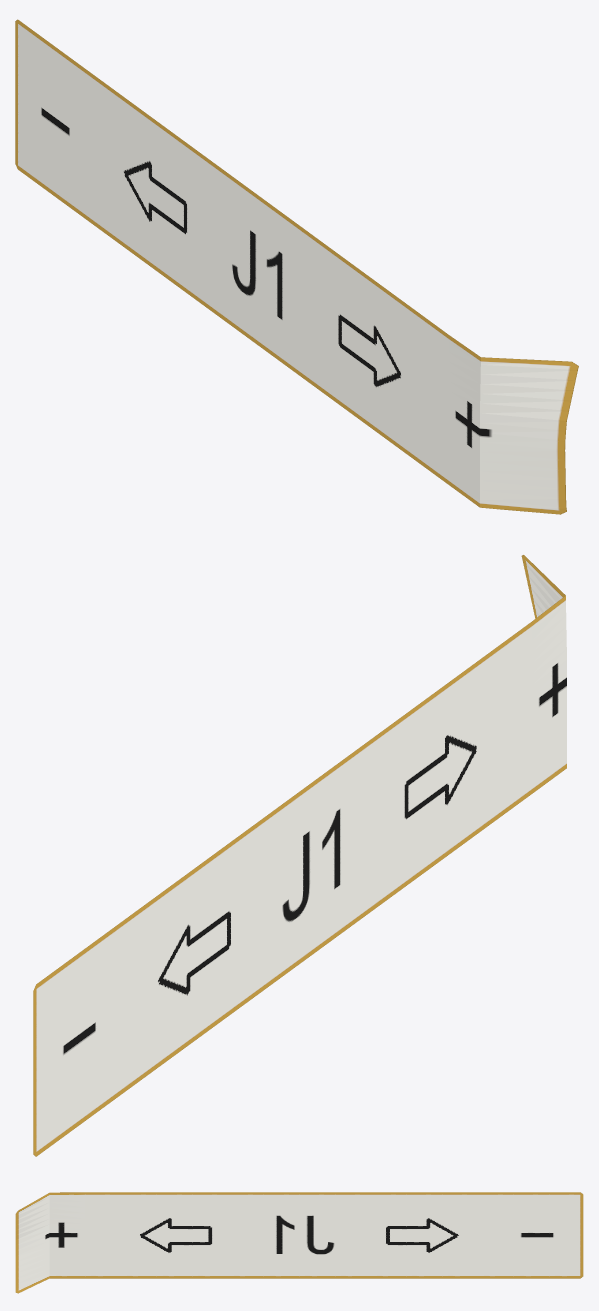
The model's file is J1_sticker_other_active.glb.
3 renders of one model, top to bottom at view 1: azimuth 30°, elevation 25°; view 2: azimuth 150°, elevation 25°; view 3: azimuth 270°, elevation 25°, orthographic. The views are drawn at different scales.
Bounding box in the file's own units: 0.00602 × 0.012 × 0.07.
Materials: 1 (1 with a texture image).
